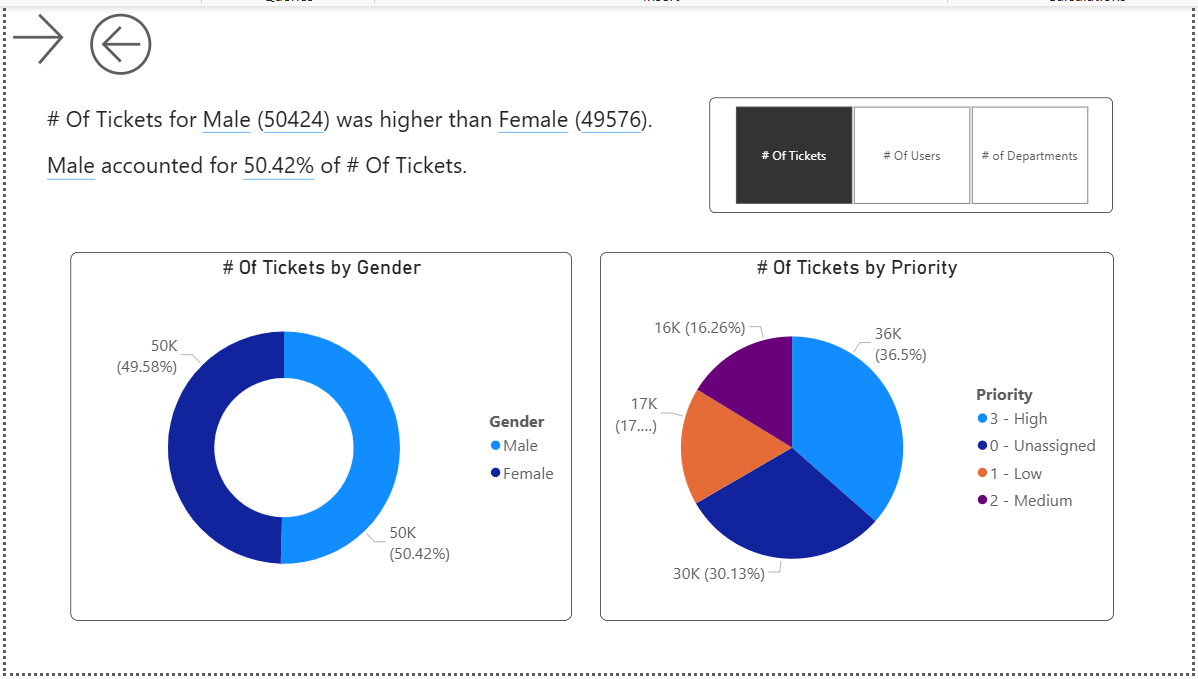

What the dashboard file says about the page in this screenshot:
{"tool":"powerbi","page":{"name":"Sink Slicer","canvas":[1280,720],"ordinal":2},"visuals":[{"type":"donutChart","fields":{"Category":["Tickets.Gender"],"Y":["Tickets.# Of Tickets"]},"box":[69.8,266.2,541.5,398.3],"z":0},{"type":"pieChart","fields":{"Category":["Tickets.Priority"],"Y":["Tickets.# Of Tickets"]},"box":[640.6,266.2,554.3,398.3],"z":1000},{"type":"textbox","box":[38.5,99.1,690.2,143.2],"z":2000},{"type":"slicer","fields":{"Values":["Dynamic Measures.Dynamic Measures"]},"box":[759.9,99.1,435,124.8],"z":3000},{"type":"actionButton","box":[82.6,0,99.1,82.6],"z":4000},{"type":"actionButton","box":[0,1.8,99.1,67.9],"z":5000}]}

Visuals, with their boxes on the page's 1280x720 design canvas (x1, y1, x2, y2). These are canvas units, not pixel positions in the 1198x679 screenshot, which may show the page scaled, cropped or inside an application window:
donutChart - Tickets.Gender x Tickets.# Of Tickets: bbox=(70, 266, 611, 664)
pieChart - Tickets.Priority x Tickets.# Of Tickets: bbox=(641, 266, 1195, 664)
textbox: bbox=(38, 99, 729, 242)
slicer - Dynamic Measures.Dynamic Measures: bbox=(760, 99, 1195, 224)
actionButton: bbox=(83, 0, 182, 83)
actionButton: bbox=(0, 2, 99, 70)
